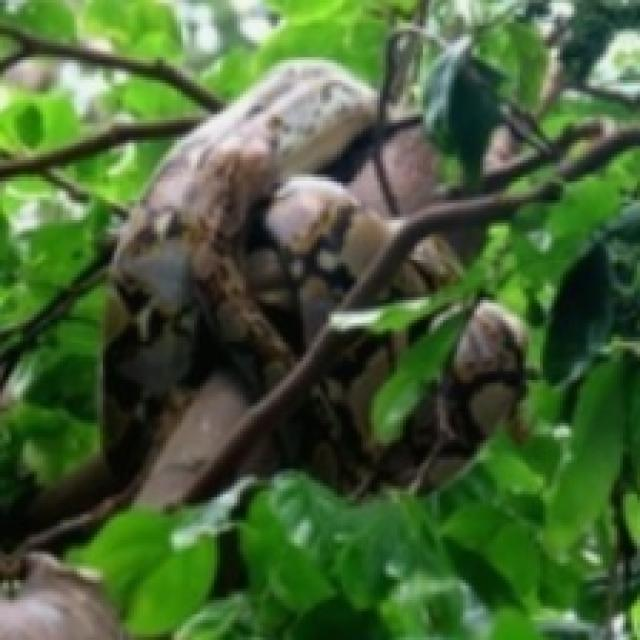reticulated python: (37, 60, 389, 523), (289, 306, 520, 486)
